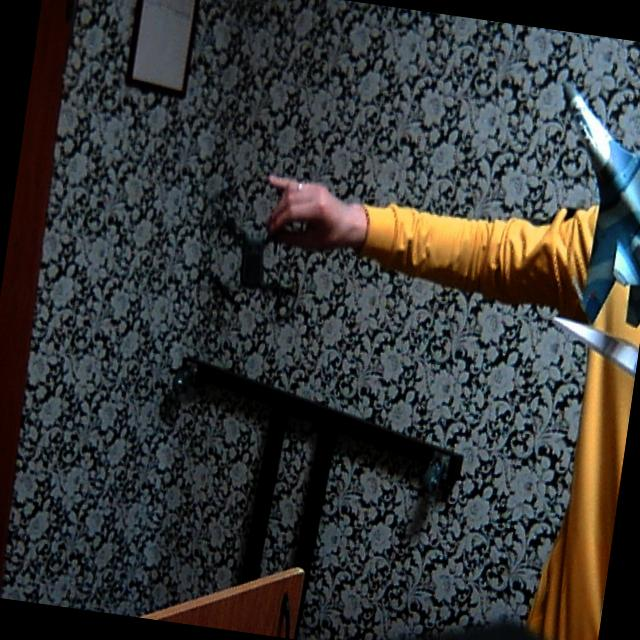drone: (179, 156, 325, 340)
